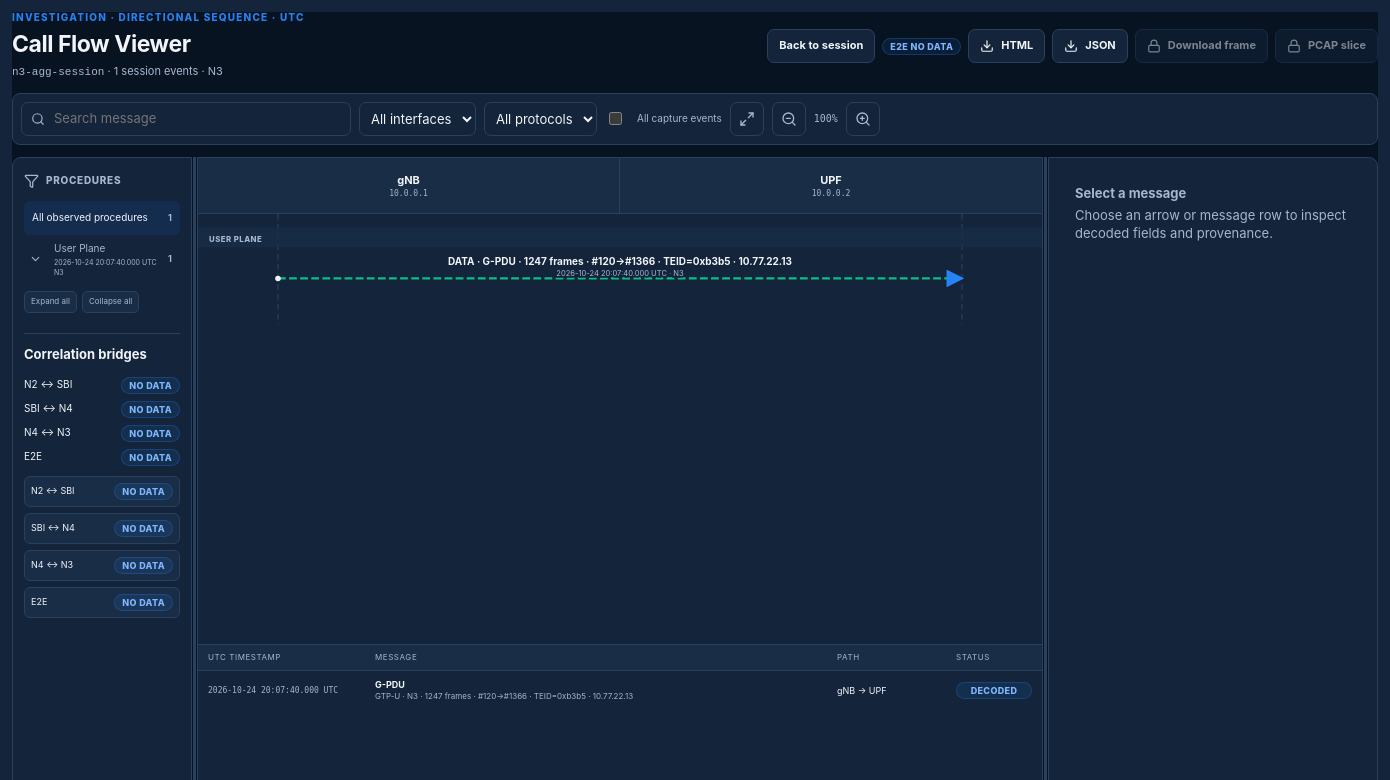
OIRAN 2.8.0 analyzer pillar 7 › N3 aggregate rendering › renders ONE aggregate row with gtpu_frame_count, TEID and first→last frame, not one row per G-PDU
Note: Inspector exposes the same aggregate context when the row is selected.
Click the button with test id "flow-event-n3-aggregate": [620, 690] box [198, 670, 1042, 710]
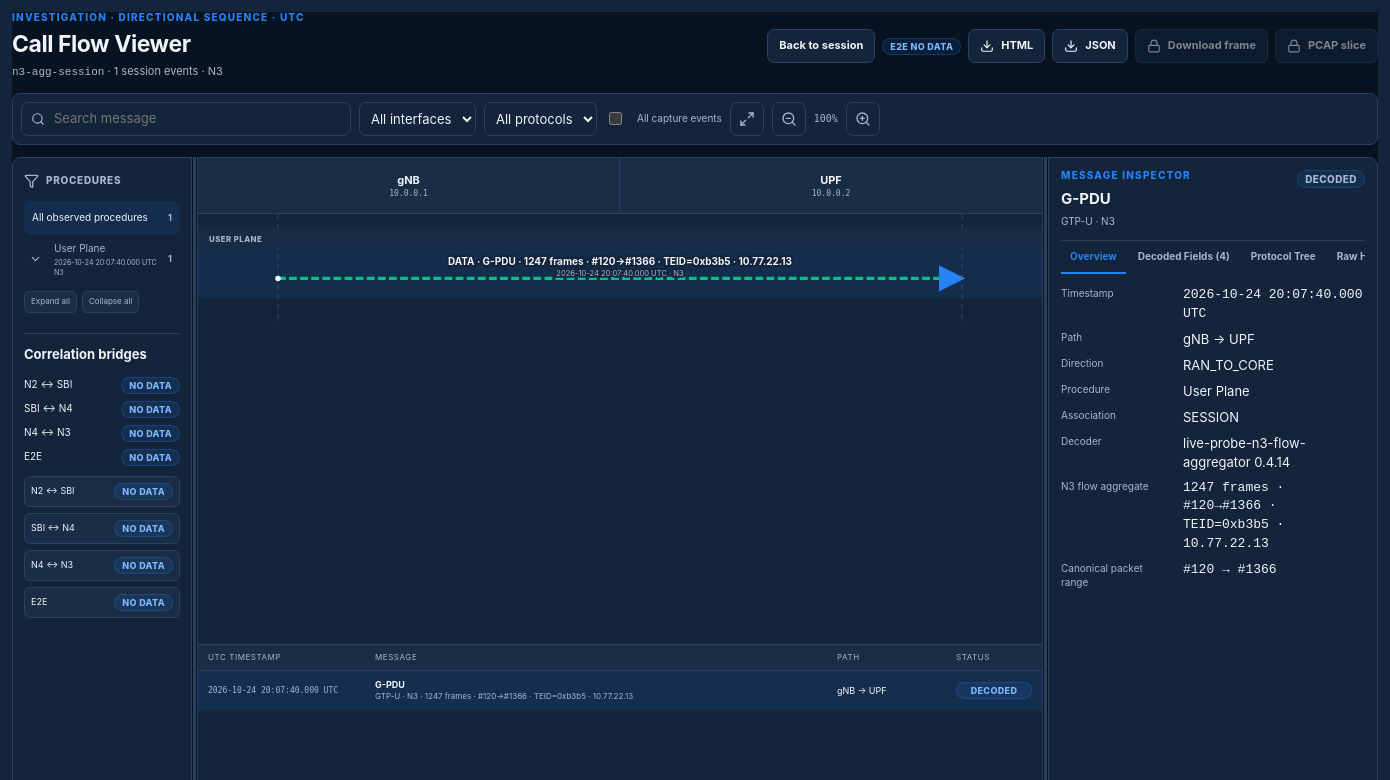
Now the text with test id "n3-aggregate-summary" shows "1247 frames", box [1183, 480, 1284, 551]
